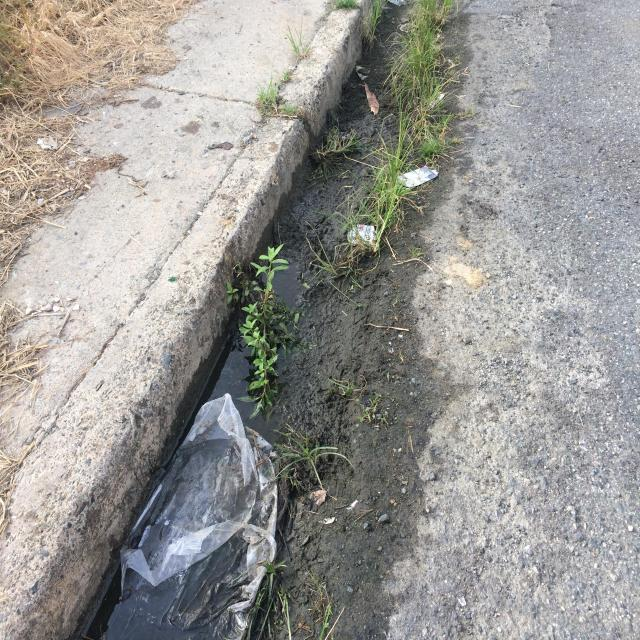litter: (107, 397, 276, 639)
